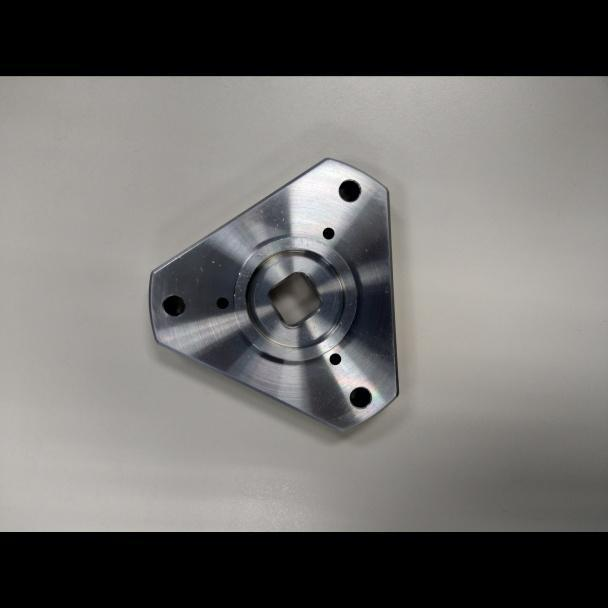hole: (159, 292, 187, 319), (336, 176, 363, 203), (347, 384, 373, 410), (320, 225, 336, 241), (214, 295, 230, 310), (327, 350, 342, 366)
